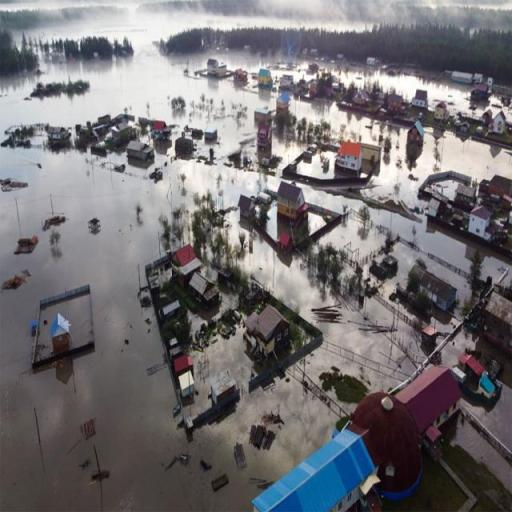flood: (0, 14, 512, 512), (318, 62, 512, 121), (442, 333, 512, 448), (275, 96, 394, 148), (267, 203, 327, 244), (297, 150, 374, 179), (190, 96, 224, 118)
house: (250, 426, 384, 506), (397, 363, 461, 435), (420, 174, 470, 229), (245, 306, 289, 365), (412, 261, 454, 317), (481, 291, 512, 351), (467, 204, 497, 244), (276, 182, 304, 220), (190, 272, 222, 304), (171, 244, 202, 274), (48, 314, 72, 352), (479, 174, 512, 201), (46, 122, 72, 152), (338, 143, 362, 170), (126, 142, 155, 160), (238, 194, 255, 218), (257, 122, 272, 146), (256, 68, 274, 87), (453, 69, 474, 85), (352, 88, 370, 106), (432, 101, 448, 121), (412, 89, 429, 107), (388, 94, 405, 112), (494, 112, 507, 134), (152, 119, 167, 137), (280, 72, 294, 88), (206, 59, 220, 73)
